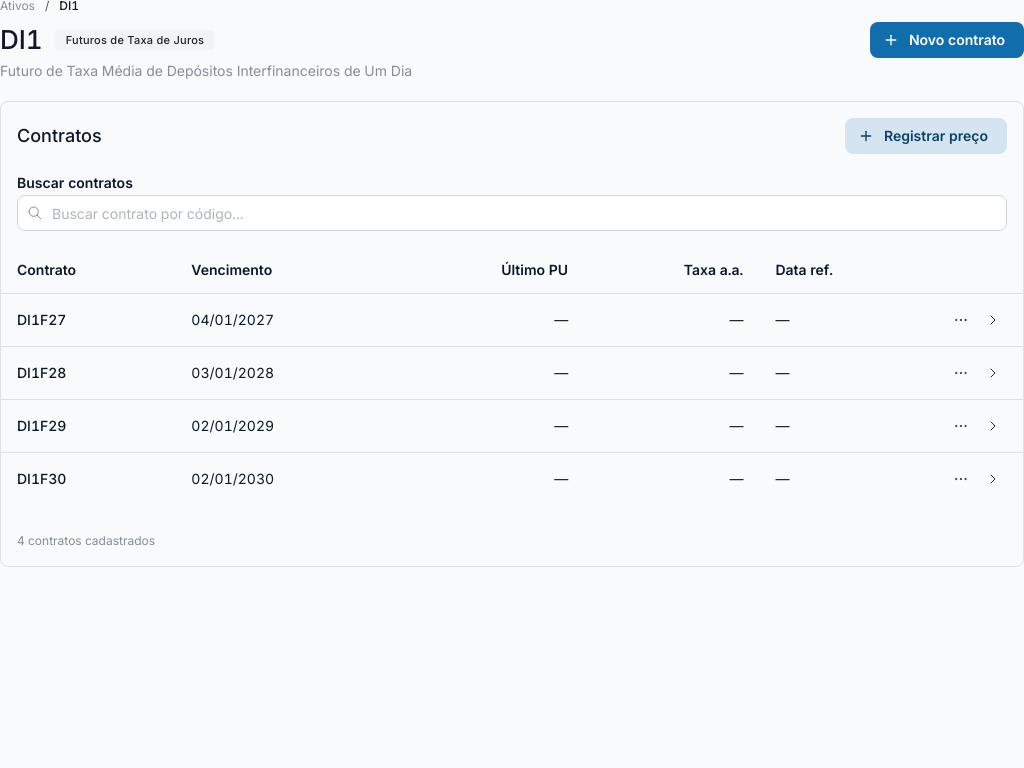
Scenario: Ativos: preços na lista de contratos (§11.2, §5, OQ-48 item 1) › OQ-15 shows the API field errors on their fields, as on the contract page
expect the heading "DI1" is shown: met, box [0, 22, 43, 57]
expect the table named "Contratos" is shown: met, box [1, 247, 1023, 505]
Click the button named "Ações de DI1F27": (961, 320) [947, 306, 975, 334]
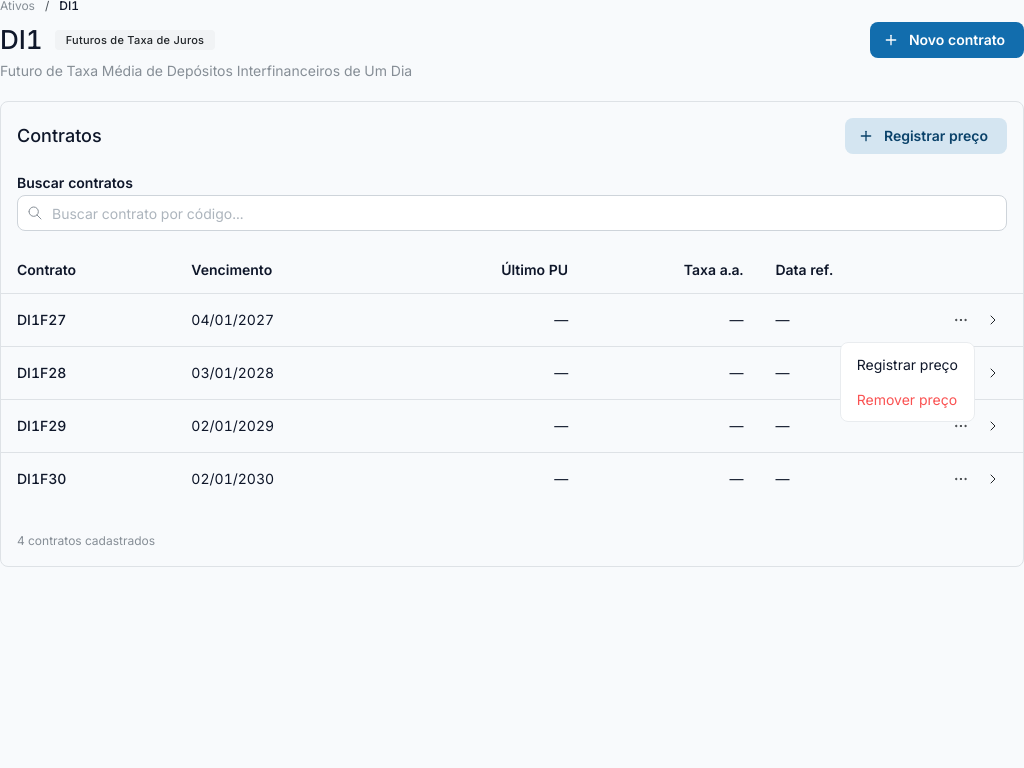
Click the menu item "Registrar preço": (907, 364) [845, 347, 970, 382]
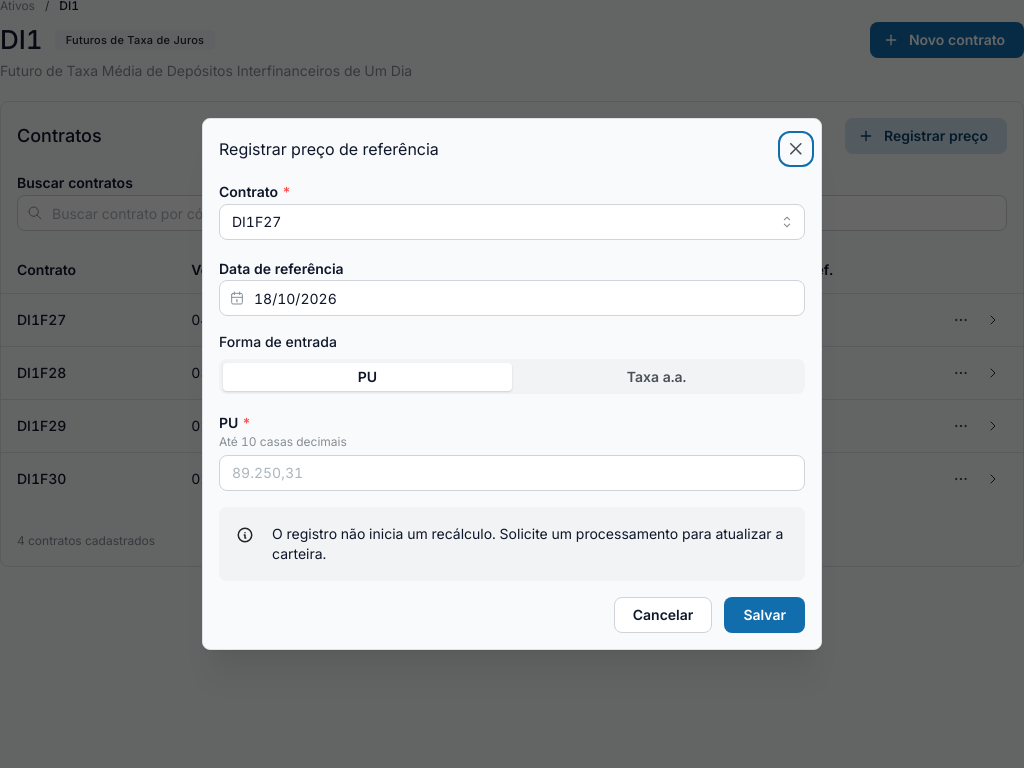
In the field labelled "PU": (512, 473) [219, 455, 805, 491], type "99.000,00"
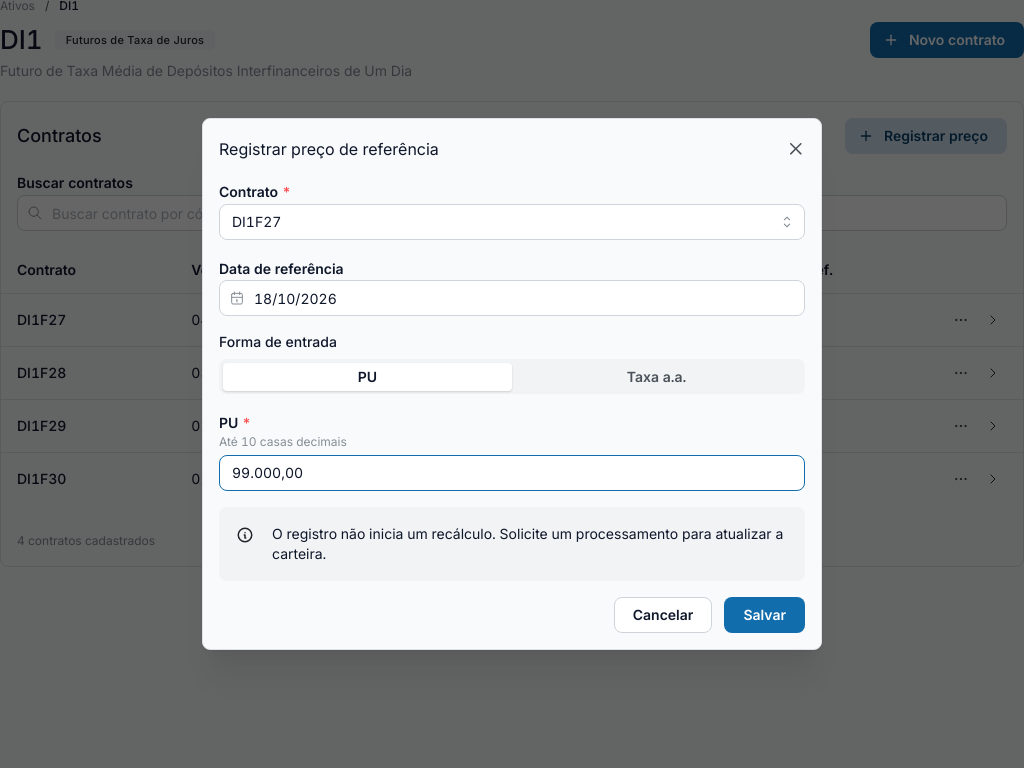
Click the button "Salvar": (765, 615) [724, 597, 805, 633]
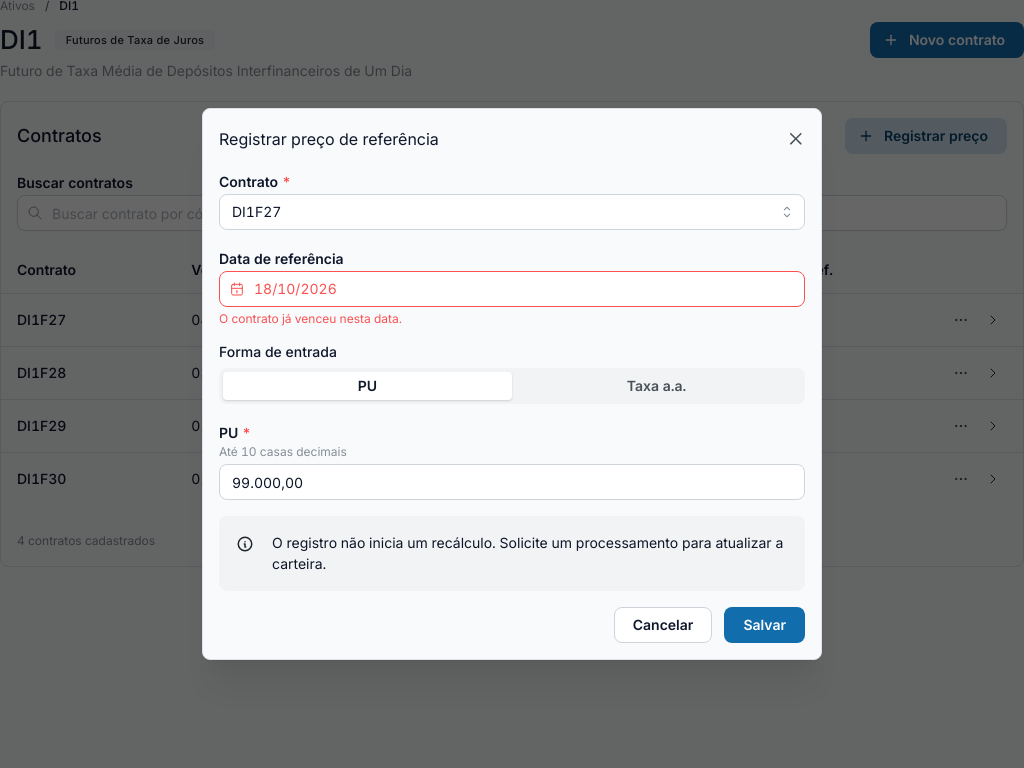
expect the text "O contrato já venceu nesta data." is shown: met, box [219, 311, 402, 326]
